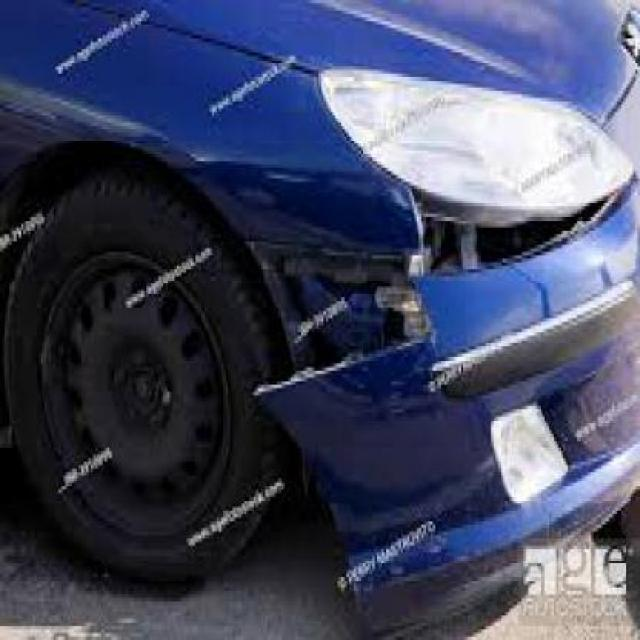damaged-front-bumper: (253, 248, 638, 637)
